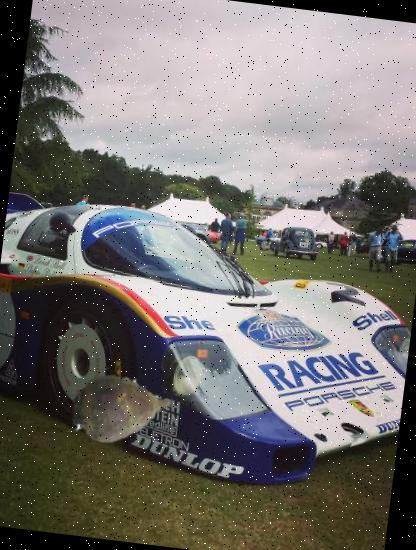Beetroot: (64, 350, 184, 470)
